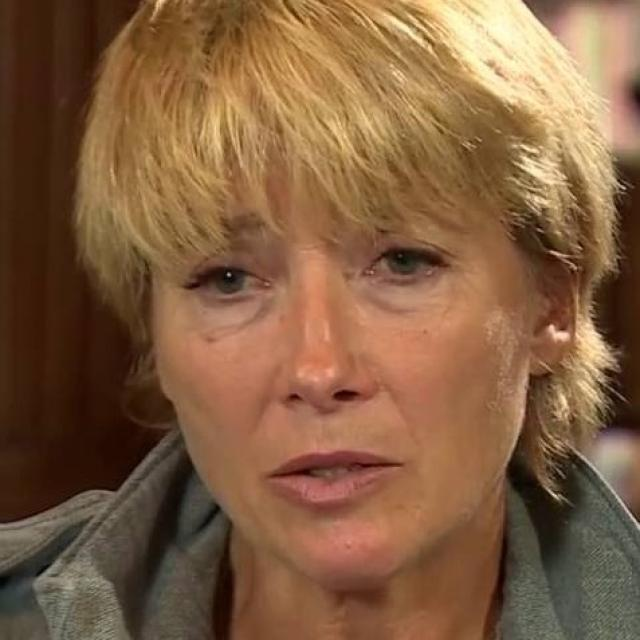Depress: (153, 116, 530, 595)
